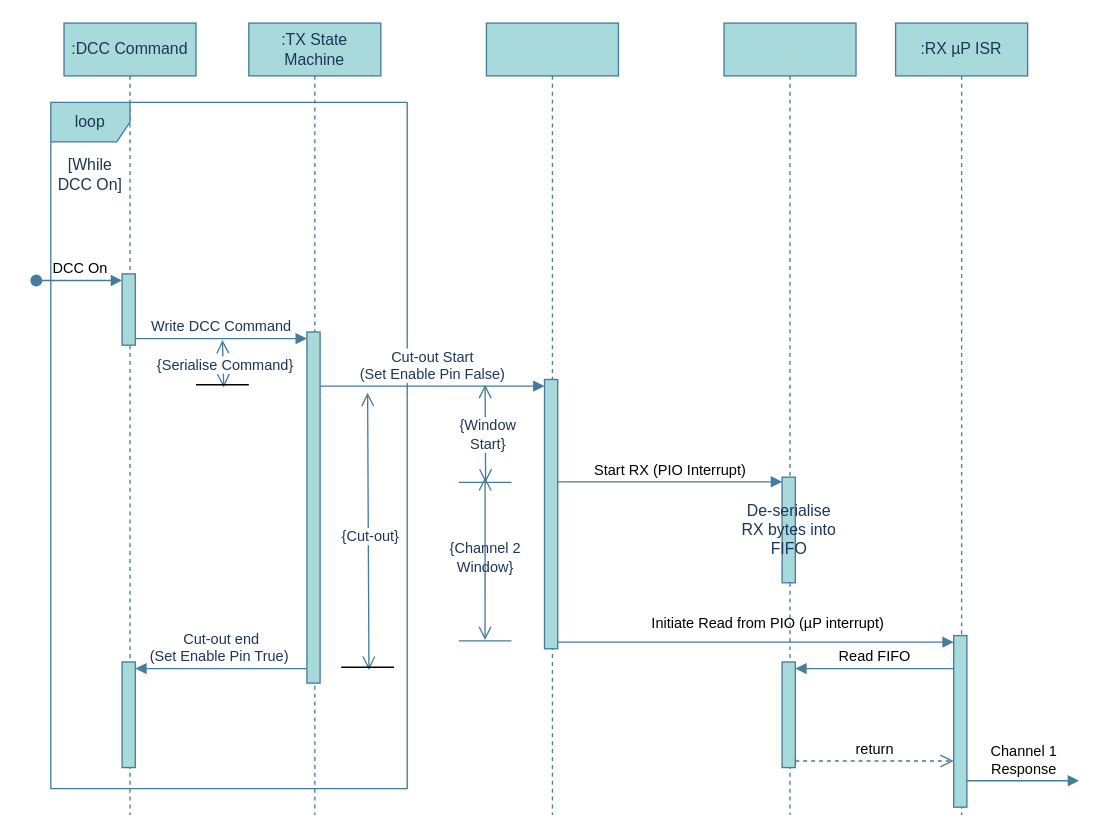
The diagram is 1113 pixels wide and 838 high, and some of its shapes have lost their labels. The shapes that lost their labels are listed below. From the top down, each one's box as (x1, y1, x2, y2) in pixels, then its label:
(485, 22, 618, 815): :Channel Window State Machine
(723, 22, 856, 815): Rx State Machine
